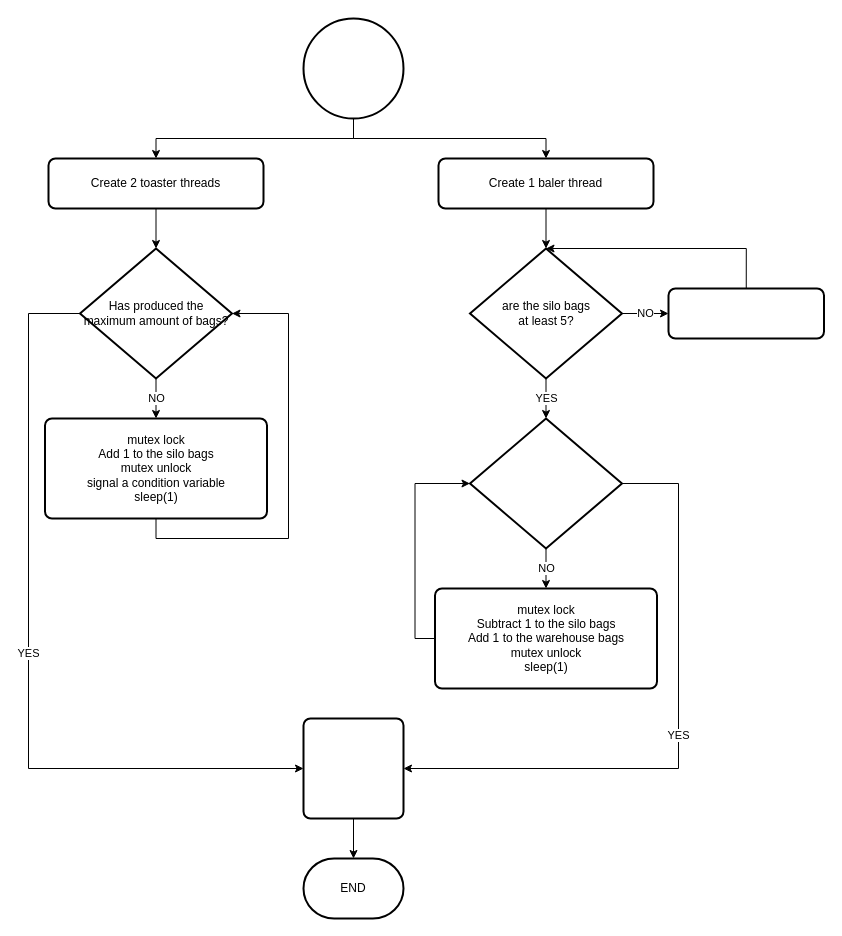
This 842x936 diagram has some shape labels left out. The centre of each missing label's shape, as x and y in pixels:
"Has baled the maximum amount of bags?" goes at (x=545, y=483).
"Join threads" goes at (x=353, y=768).
"START" goes at (x=353, y=68).
"wait for condition variable" goes at (x=745, y=313).
